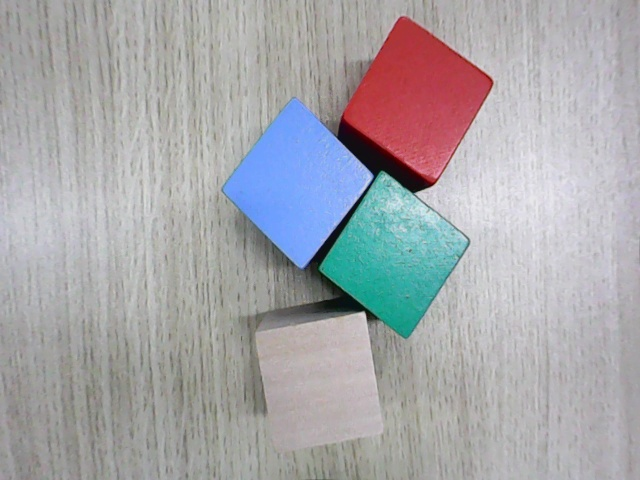upside of big cube: (219, 98, 375, 273), (341, 15, 494, 184), (318, 171, 471, 339), (254, 311, 384, 453)
